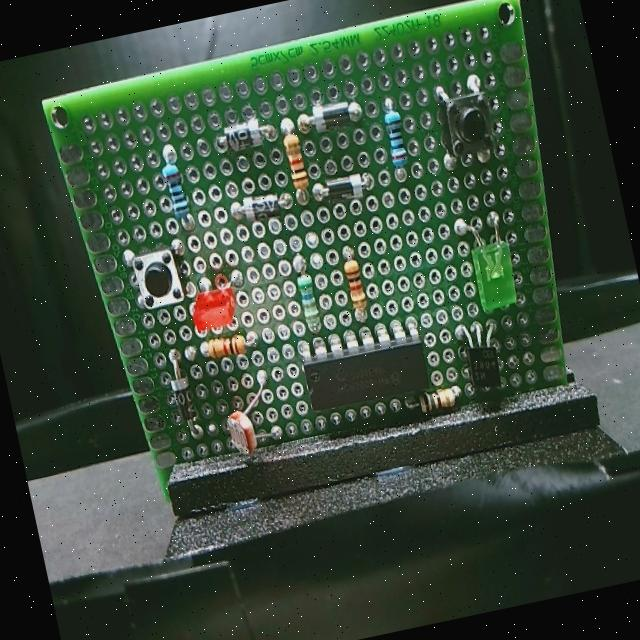IC: (298, 335, 434, 419)
cds: (222, 392, 266, 464)
diode: (160, 350, 204, 440), (209, 114, 277, 158), (234, 180, 294, 229), (301, 95, 364, 139), (315, 168, 372, 210)
led: (459, 226, 526, 322), (184, 264, 246, 336)
resistor: (268, 118, 316, 202), (285, 265, 333, 338), (377, 94, 416, 182), (336, 250, 376, 318), (198, 328, 258, 363), (160, 159, 188, 223), (420, 377, 466, 414)
switch: (436, 74, 505, 174), (126, 240, 186, 314)
transistor: (456, 328, 511, 398)
